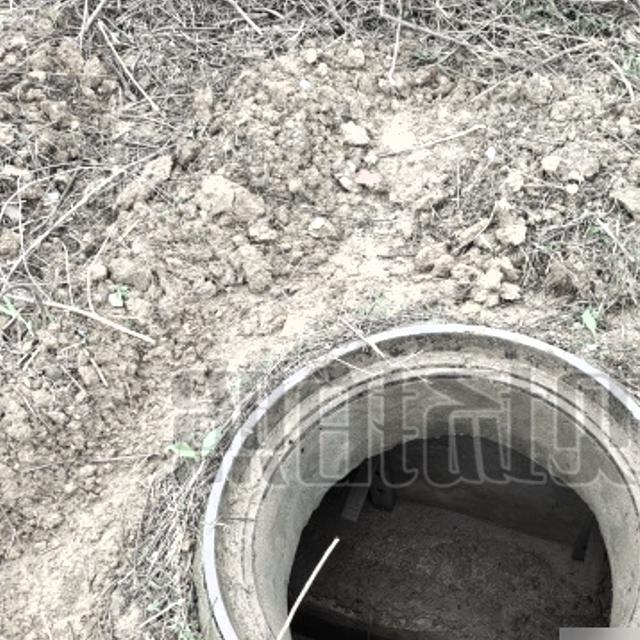lose: (191, 313, 640, 640)
